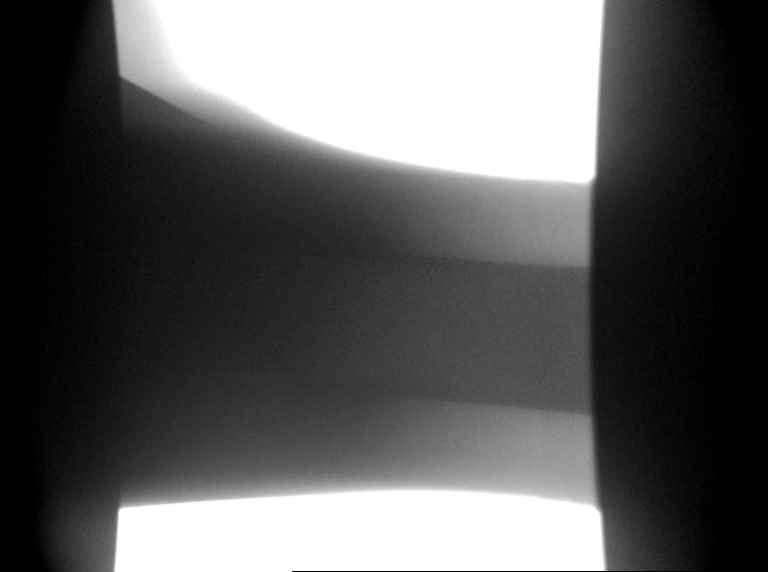defect: (417, 321, 450, 356)
